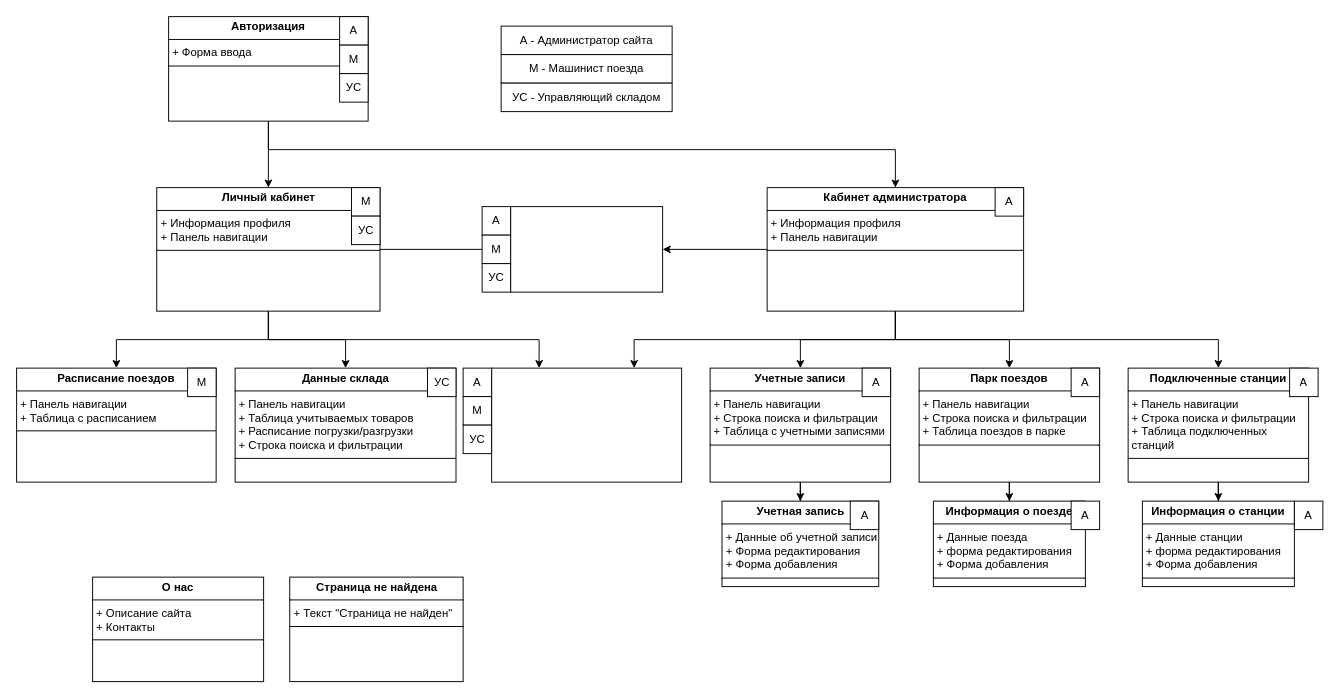
This 1340x698 diagram has some shape labels left out. The shapes that lost their labels are listed below. From the top down, each one's centre as x and y in pixels, then its label:
point (586, 249): Редактирование профиля + Форма редактирования
point (586, 424): Карта логистической сети + Панель навигации + Карта путей и станций компании
